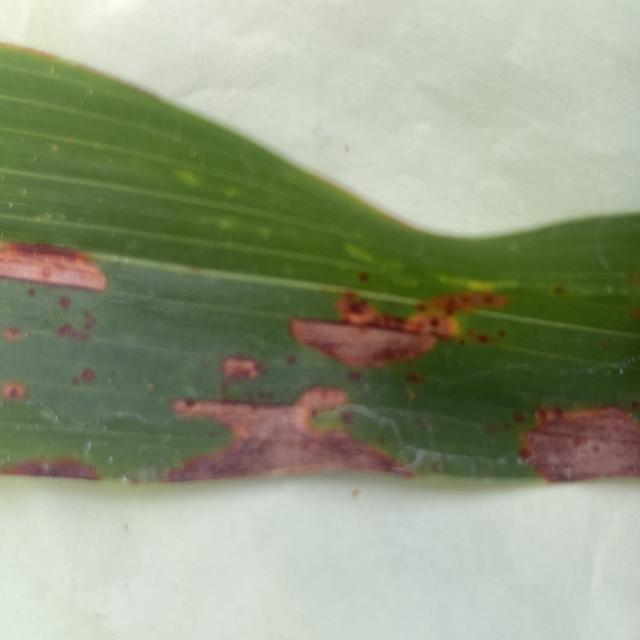millet_rust: (1, 36, 640, 491)
